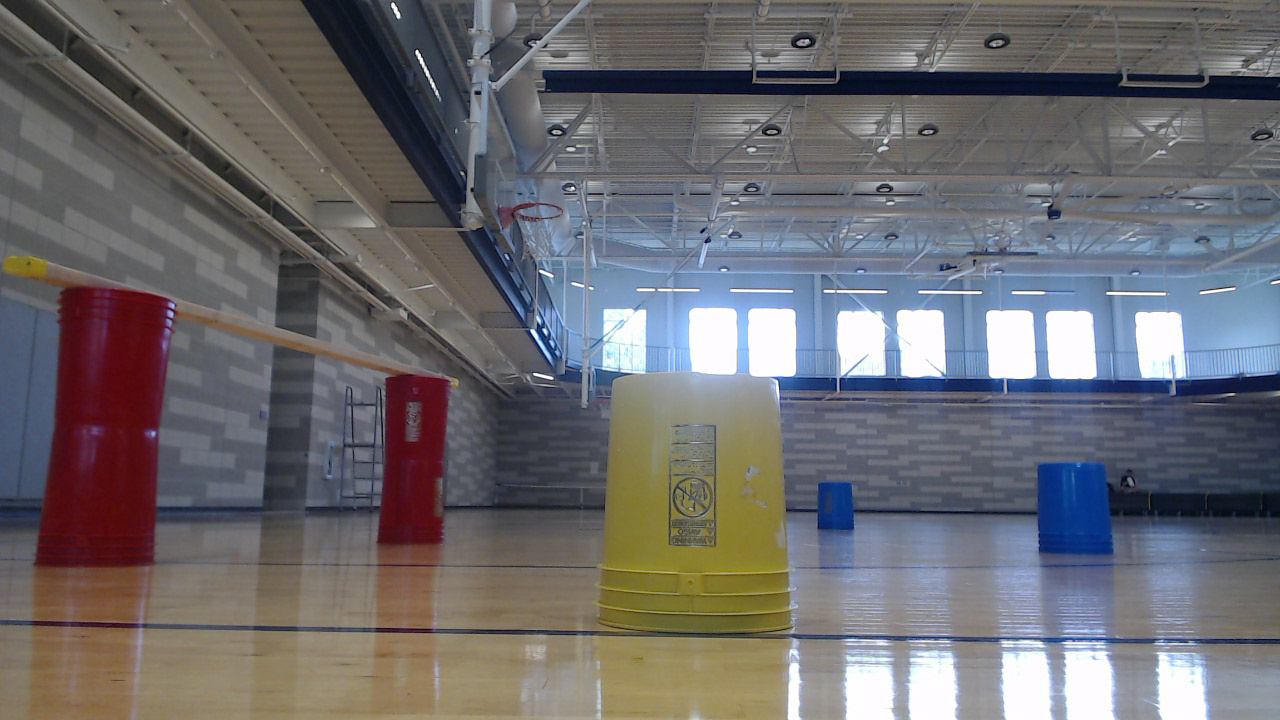blue_bucket: (1038, 462, 1122, 566), (819, 484, 864, 540)
red_bucket_arch: (31, 276, 462, 581)
yellow_bucket: (599, 373, 809, 647)
